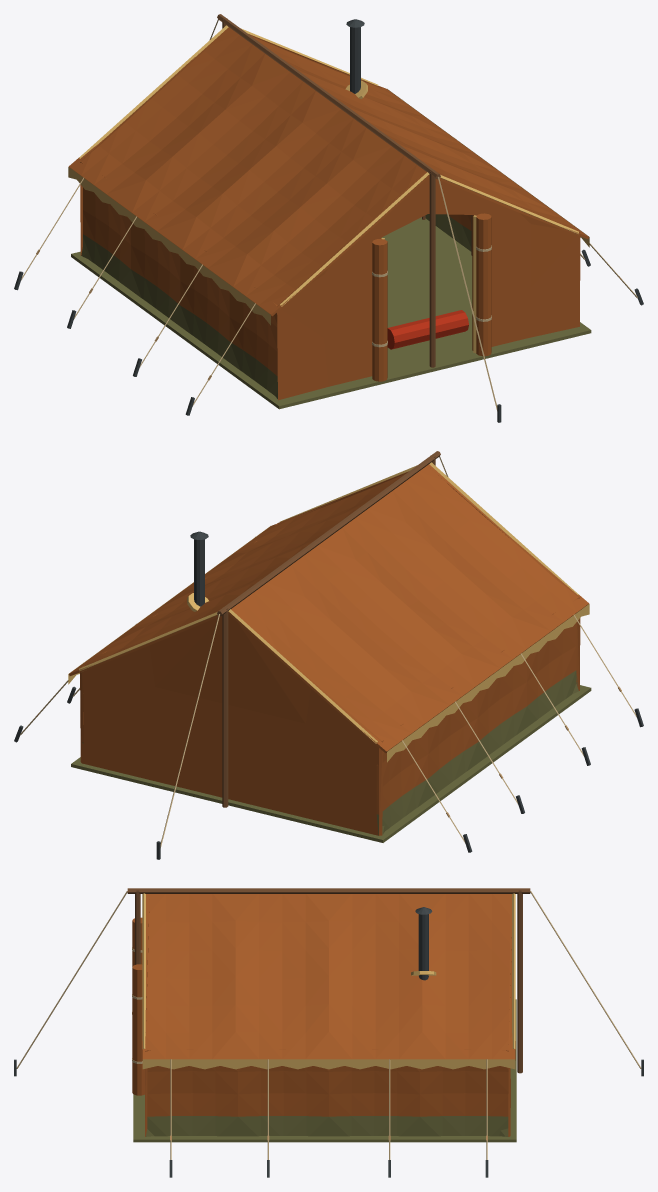
Rendered from WH_CanvasTent.glb.
3 views of the same model, one above another, from view 1: azimuth 30°, elevation 25°; view 2: azimuth 150°, elevation 25°; view 3: azimuth 270°, elevation 25° (orthographic). The views are drawn at different scales.
Visible parts, largest first — view 1: WH_CanvasTent_LOD0; view 2: WH_CanvasTent_LOD0; view 3: WH_CanvasTent_LOD0.
Boxes of the visible parts, x1,y1,x2,y2 form: WH_CanvasTent_LOD0: (14,14,643,422); WH_CanvasTent_LOD0: (14,451,643,859); WH_CanvasTent_LOD0: (14,888,643,1177).
Bounding box in the file's own units: 6.15 × 2.84 × 7.97.
